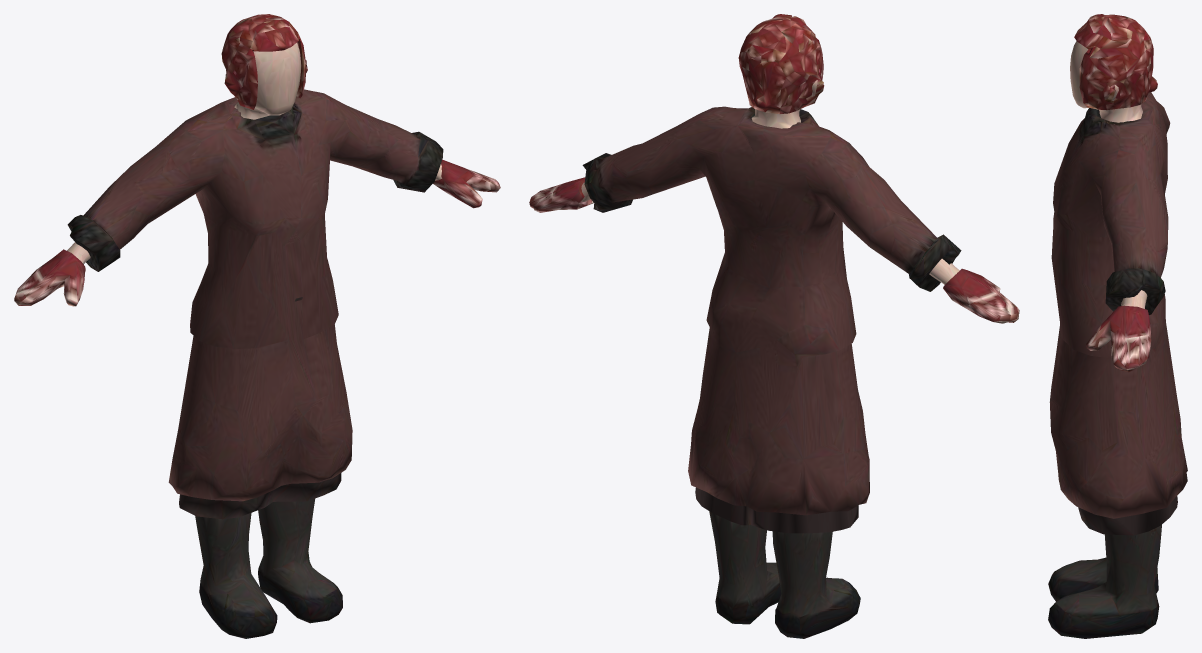
Rendered from npc_x_zina.glb.
The picture shows the model from 3 angles, left to right: view 1: azimuth 30°, elevation 25°; view 2: azimuth 150°, elevation 25°; view 3: azimuth 270°, elevation 25°; orthographic projection.
Visible parts, largest first — view 1: Human; view 2: Human; view 3: Human.
Part boxes in pixels (<box>): Human: <box>14,14,500,638</box>; Human: <box>529,14,1019,638</box>; Human: <box>1048,14,1187,638</box>.
Bounding box in the file's own units: 1.41 × 1.64 × 0.3503.
1 material, 1 textured.
